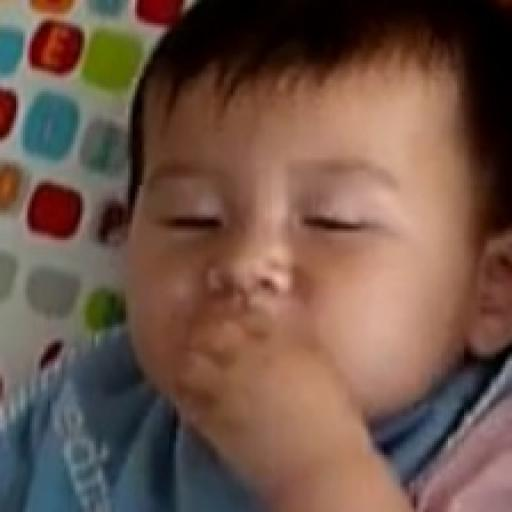Autism: (118, 9, 512, 436)
